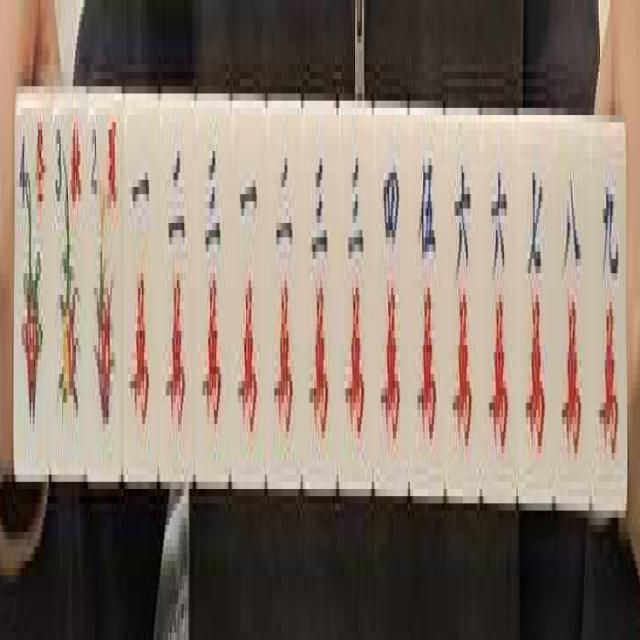ff2: (88, 100, 121, 466)
ff3: (53, 110, 87, 464)
ff4: (16, 110, 50, 460)
m1: (233, 123, 266, 469), (124, 113, 155, 463)
m2: (269, 134, 301, 470), (161, 116, 191, 460)
m3: (340, 121, 372, 477), (196, 105, 227, 471), (305, 120, 333, 477)
m4: (374, 115, 404, 497)
m5: (412, 117, 444, 488), (522, 118, 550, 492)
m6: (483, 128, 514, 493), (448, 126, 478, 482)
m8: (555, 131, 588, 491)
m9: (594, 139, 624, 487)
